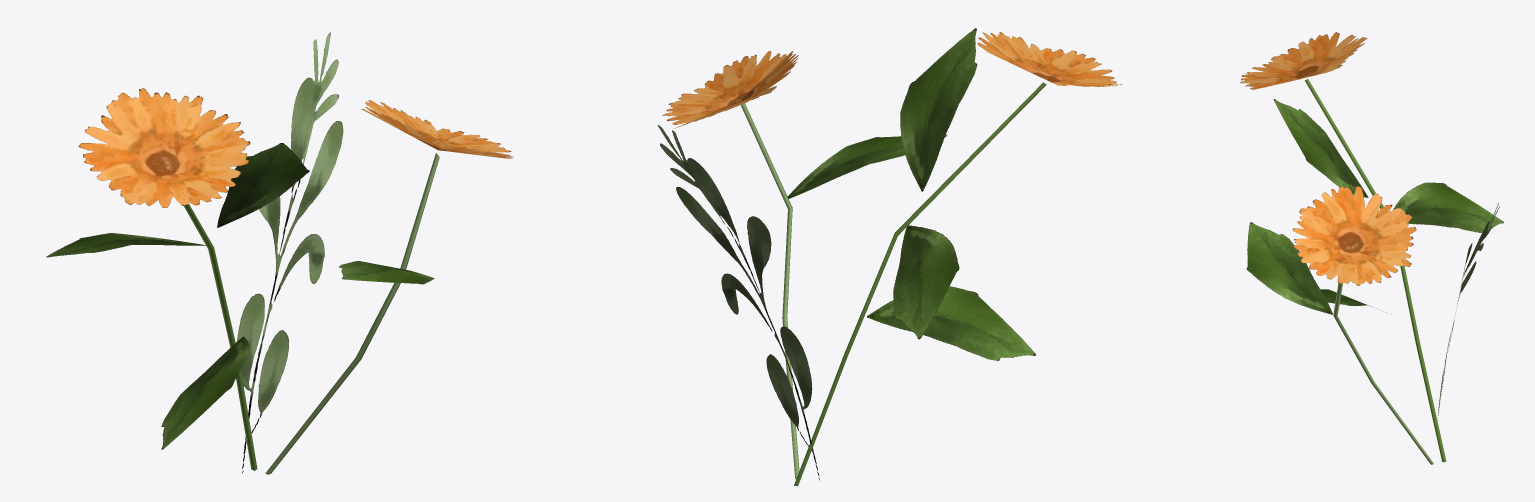
3 renders of one model, left to right at view 1: azimuth 30°, elevation 25°; view 2: azimuth 150°, elevation 25°; view 3: azimuth 270°, elevation 25°, orthographic. The views are drawn at different scales.
Parts seen in each view (by area): view 1: F12; view 2: F12; view 3: F12.
Boxes of the visible parts, box(x1,y1,x2,y2) form: F12: box(46, 32, 513, 474); F12: box(658, 28, 1122, 486); F12: box(1240, 32, 1503, 464).
Bounding box in the file's own units: 194 × 180 × 135.
